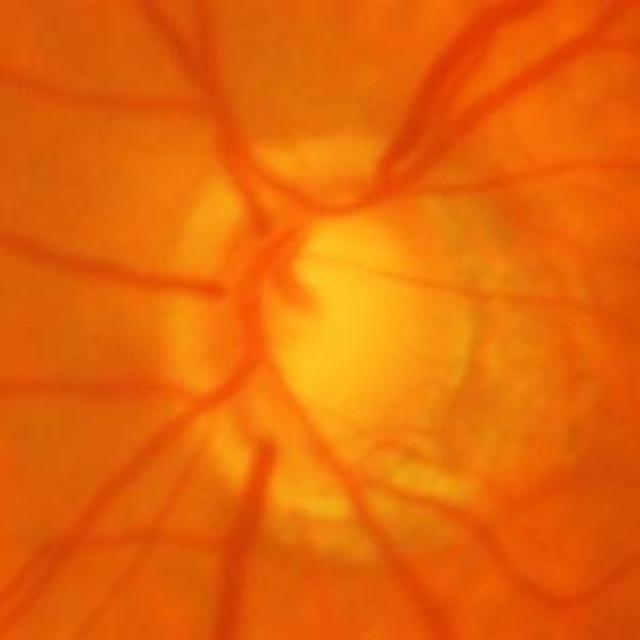OC: (261, 220, 416, 406)
OD: (166, 147, 478, 468)
